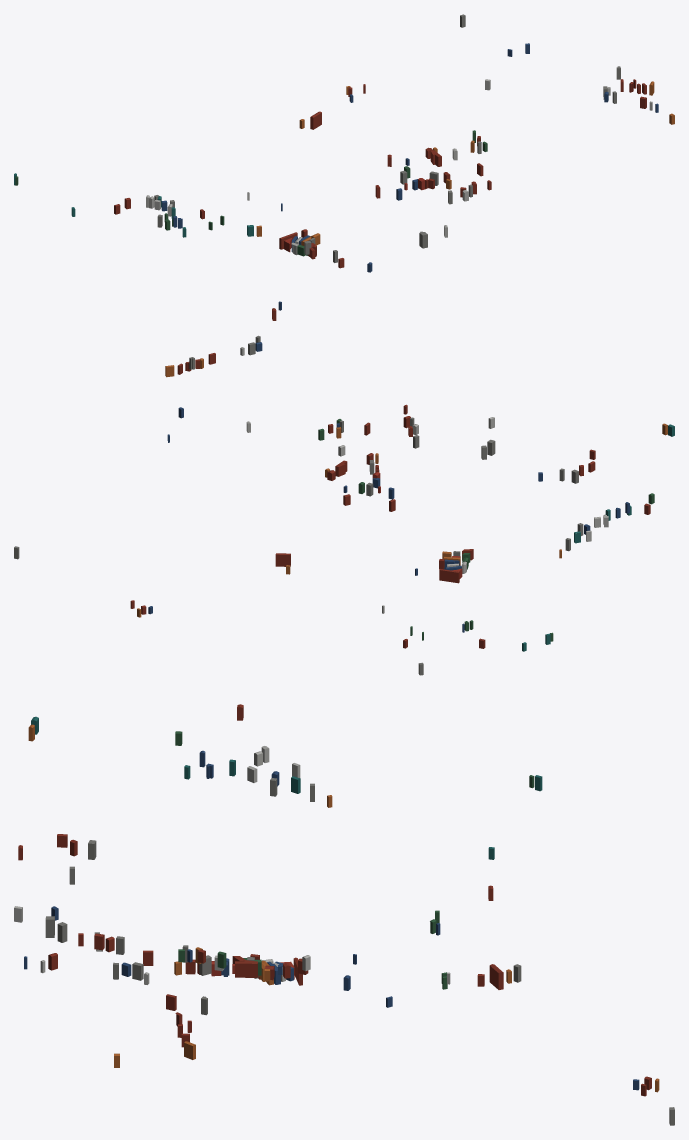
File: near-15-27365-14866.36149310.glb
3 views of the same model, one above another, from view 1: azimuth 30°, elevation 25°; view 2: azimuth 150°, elevation 25°; view 3: azimuth 270°, elevation 25° (orthographic). The views are drawn at different scales.
Bounding box in the file's own units: 1162 × 373 × 921.
